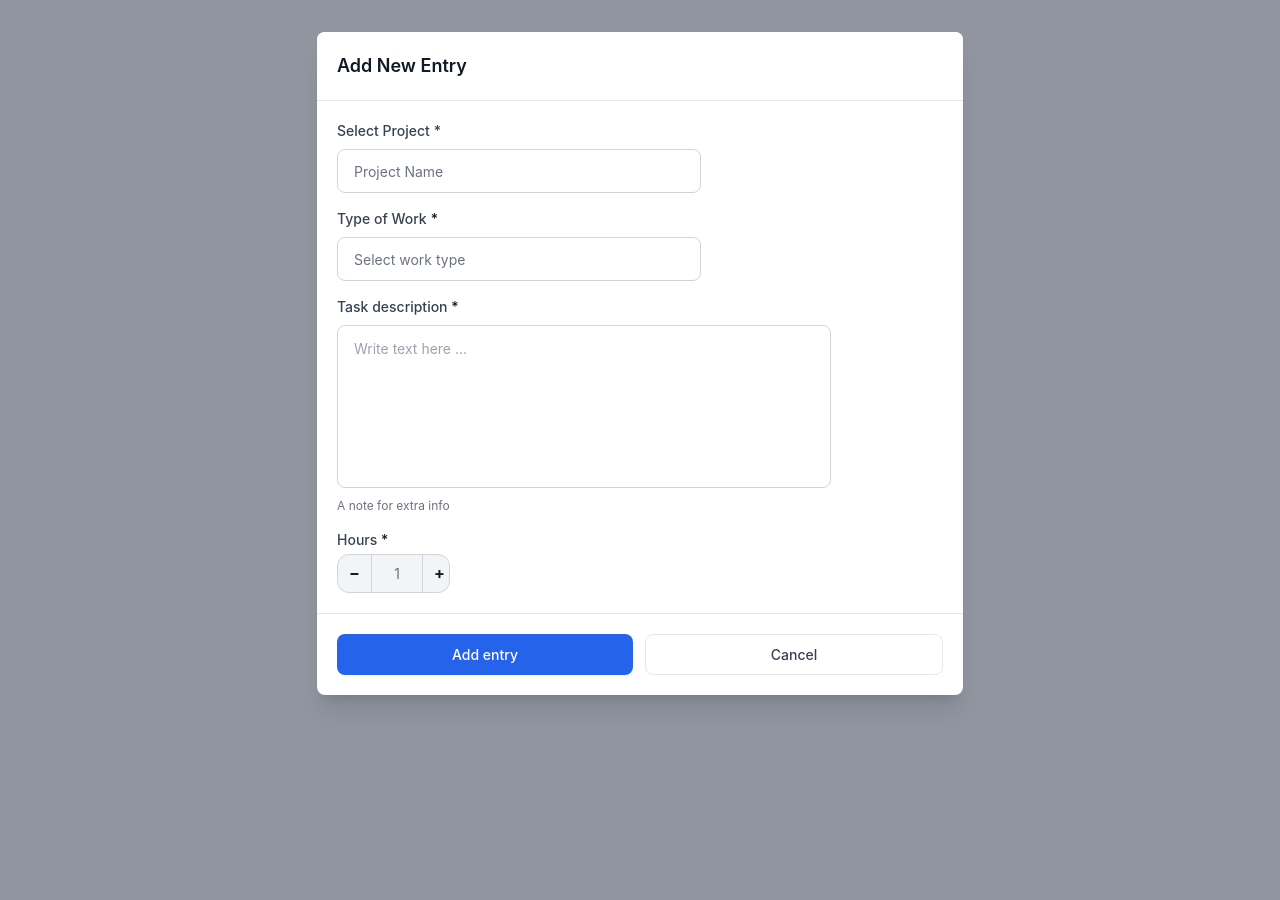
Test: TimesheetEntryModal › validates description length
This screenshot has width=1280, height=900.
In the text box labelled "Task description *": [584, 406] box [337, 325, 831, 488], type "abc"
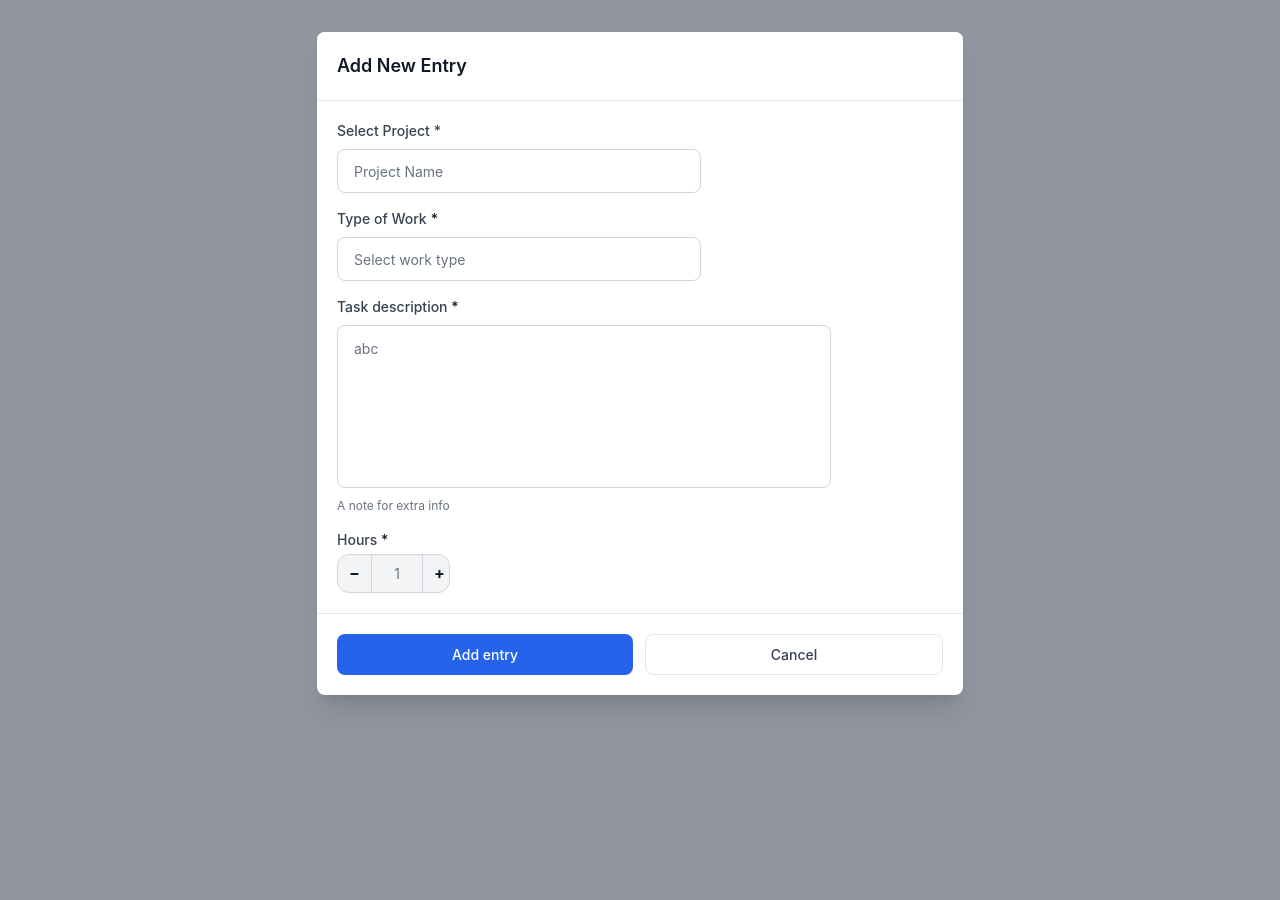
Click the button "Add entry": [485, 654] box [337, 634, 633, 675]
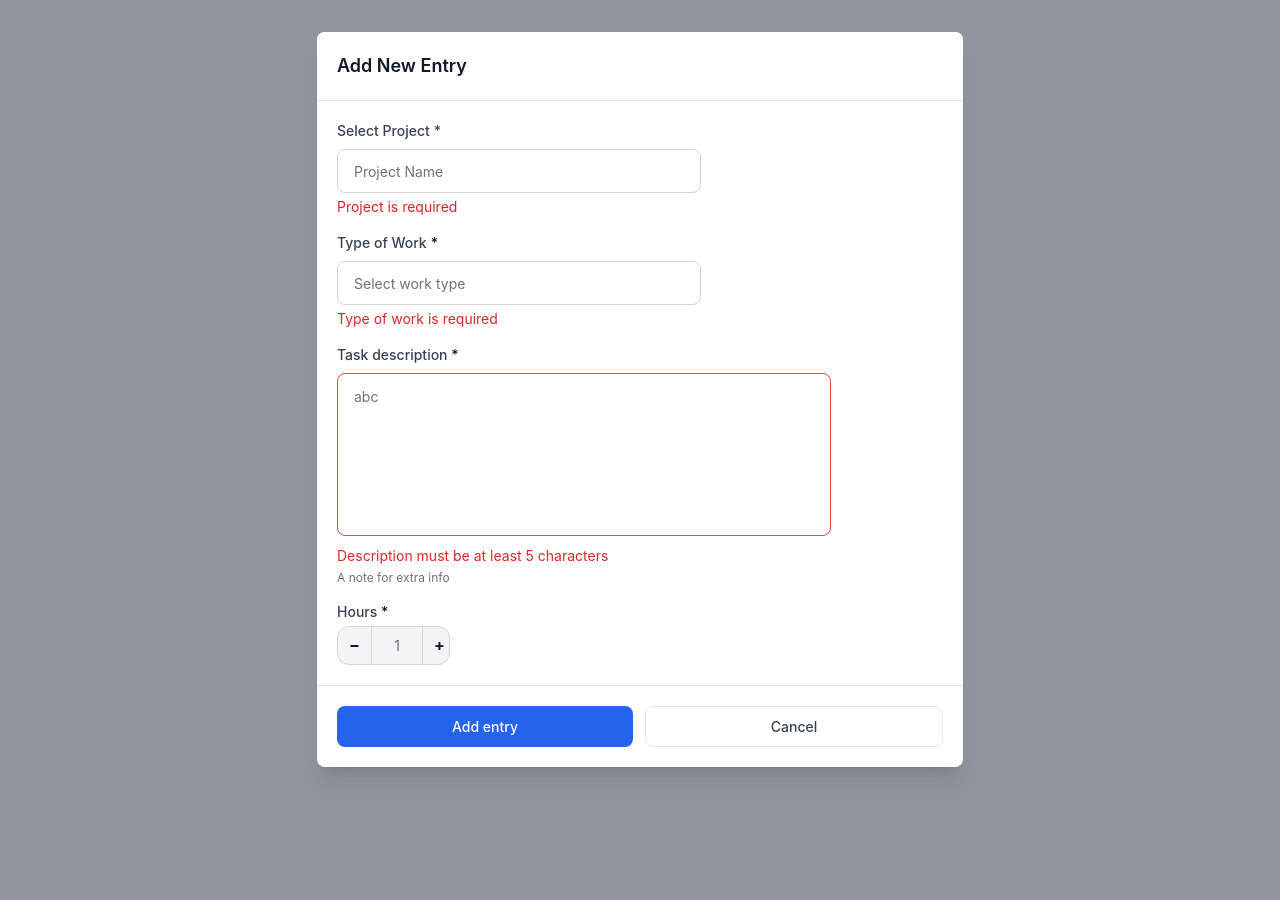
Expected: the text "Description must be at least 5 characters" is shown, [337, 547, 608, 564]
